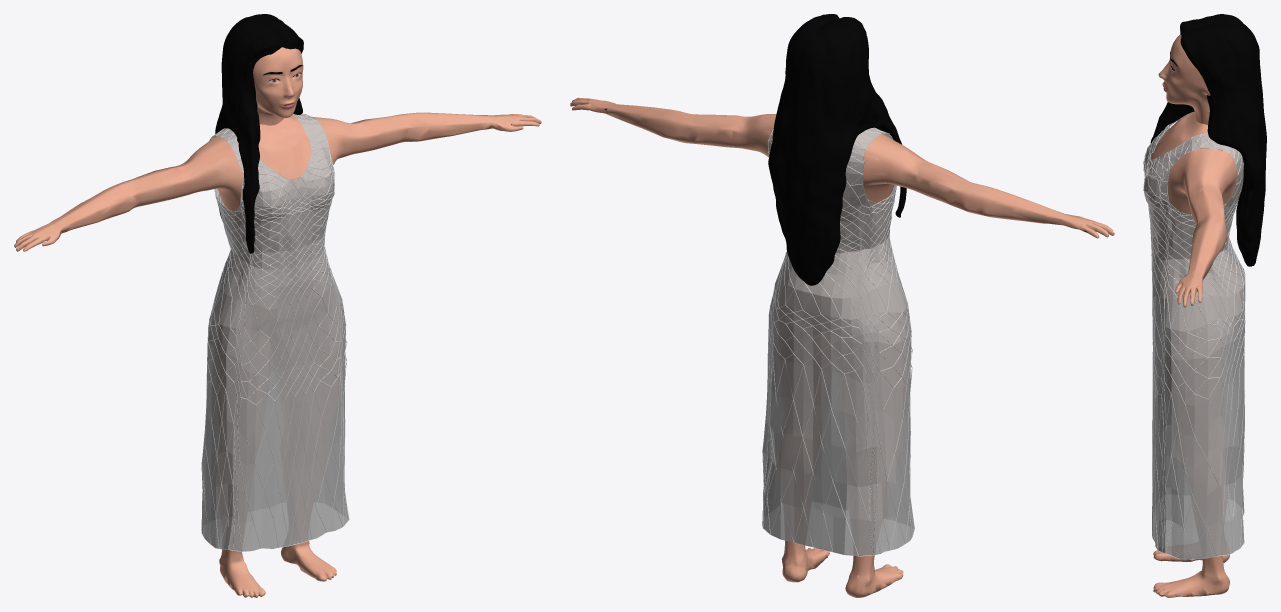
Rendered from GalateaFinish.fbx.
The picture shows the model from 3 angles, left to right: view 1: azimuth 30°, elevation 25°; view 2: azimuth 150°, elevation 25°; view 3: azimuth 270°, elevation 25°; orthographic projection. The views are drawn at different scales.
Visible parts, largest first — view 1: Dress2, Galatea, WireDress, Hair; view 2: Dress2, Hair, Galatea, WireDress; view 3: Dress2, Galatea, Hair, WireDress.
Part boxes in pixels (x1,y1,x2,y2): Dress2: (202,114,348,551); Galatea: (14,47,541,597); WireDress: (201,113,349,551); Hair: (215,14,303,253); Dress2: (762,127,914,556); Hair: (768,14,906,285); Galatea: (570,97,1114,597); WireDress: (762,128,914,556); Dress2: (1144,122,1245,559); Galatea: (1151,34,1237,597); Hair: (1150,14,1266,266); WireDress: (1143,114,1245,559).
Size of the model in its own units: 169 by 168 by 33.99.
6 materials, 1 textured.
